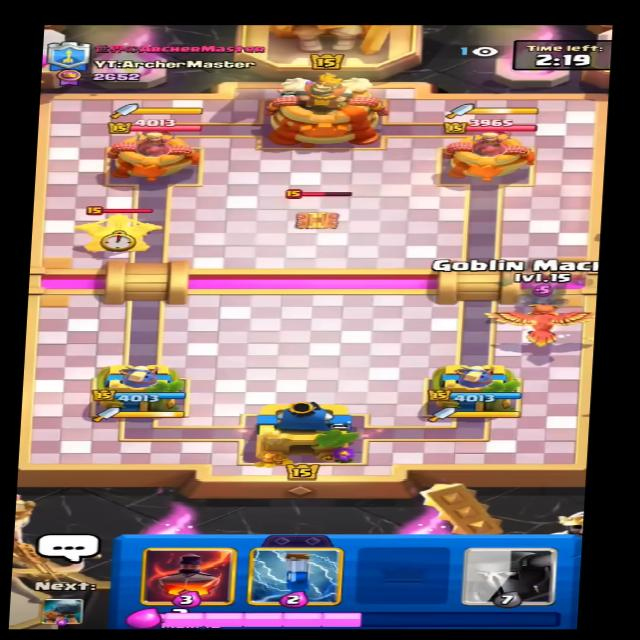tesla-closed: (274, 183, 362, 231)
x-bow: (57, 206, 168, 260)
